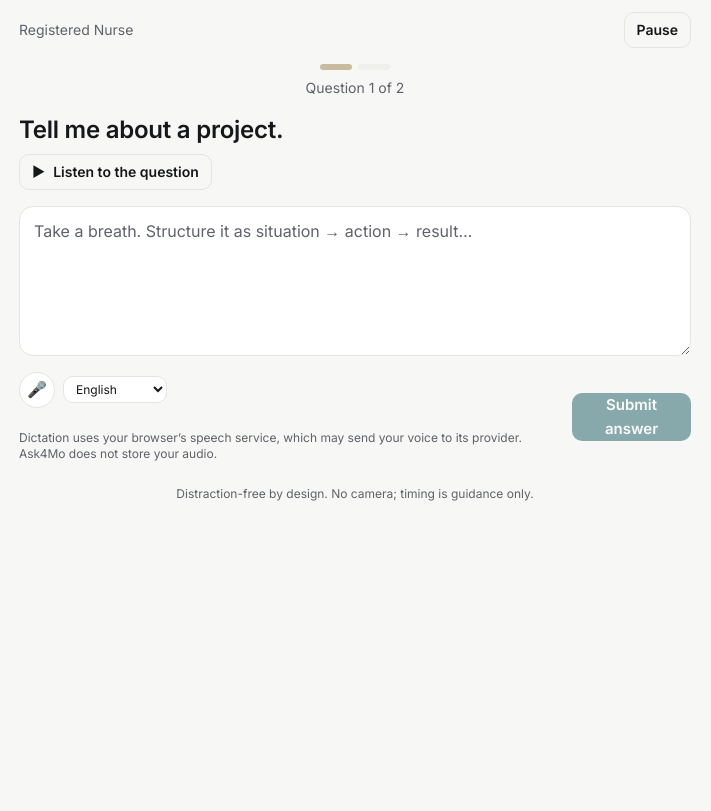
Test: Practice active interview › renders the current question and submits a typed answer
Expected: the heading "Tell me about a project." is shown, [19,115,284,144]
Type "My structured answer." into the text box named "Your answer" at (355, 281), box [19,206,691,356]
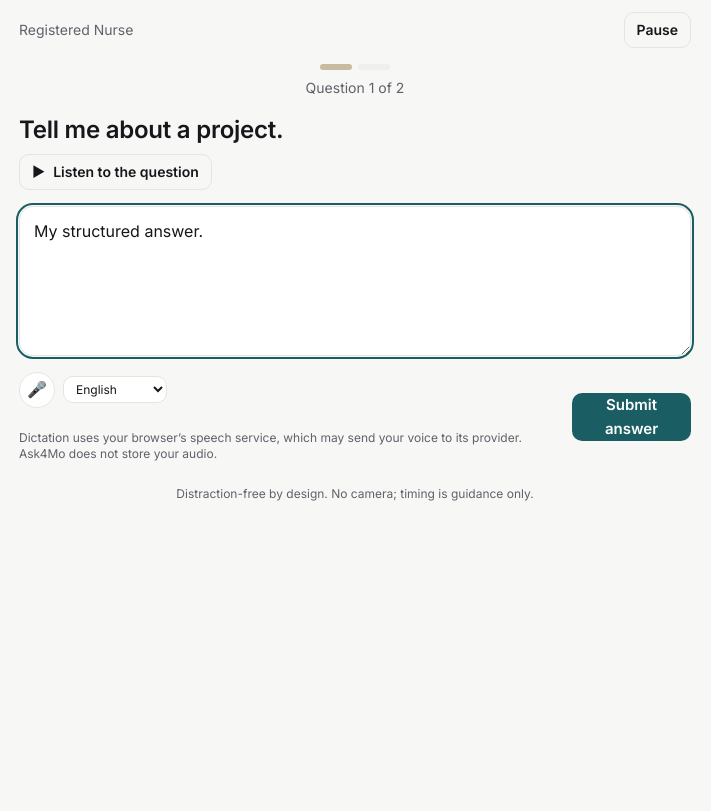
Click the button "Submit answer" at (632, 417), box [572,393,691,441]
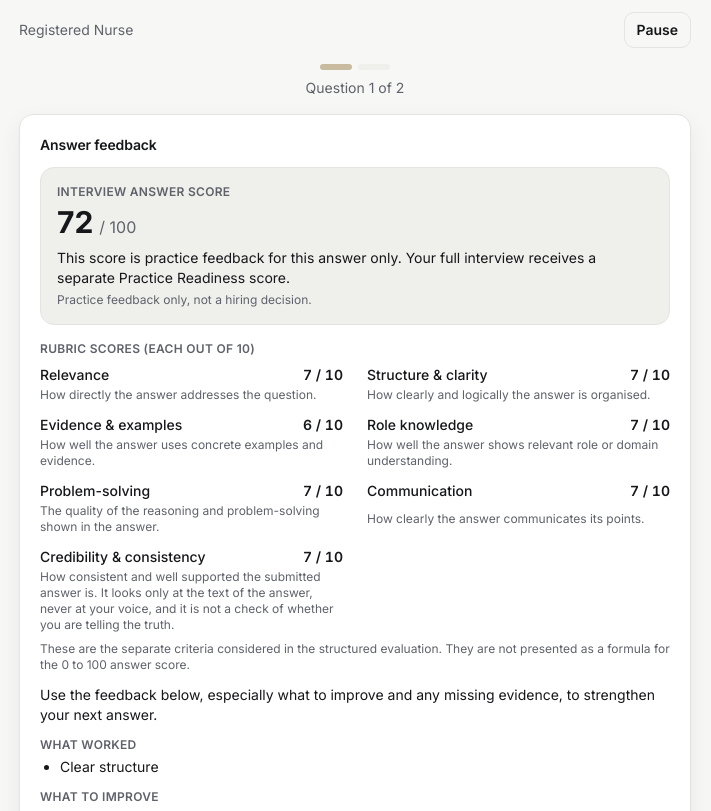
Now the heading "Answer feedback" is shown, box [40,136,157,153]
Now the text "72" is shown, box [57,204,93,240]
